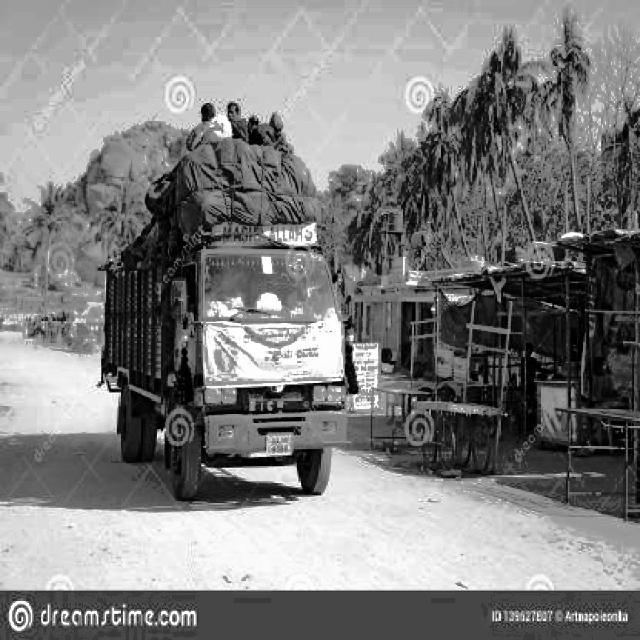HCV: (109, 143, 347, 489)
